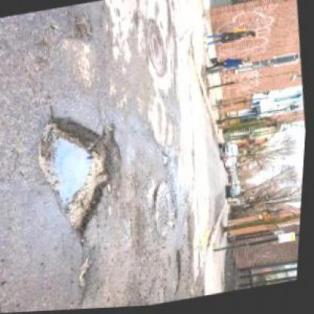Hueco: (29, 106, 136, 240), (168, 251, 192, 299), (65, 13, 97, 46), (78, 258, 100, 292), (162, 152, 174, 171)
